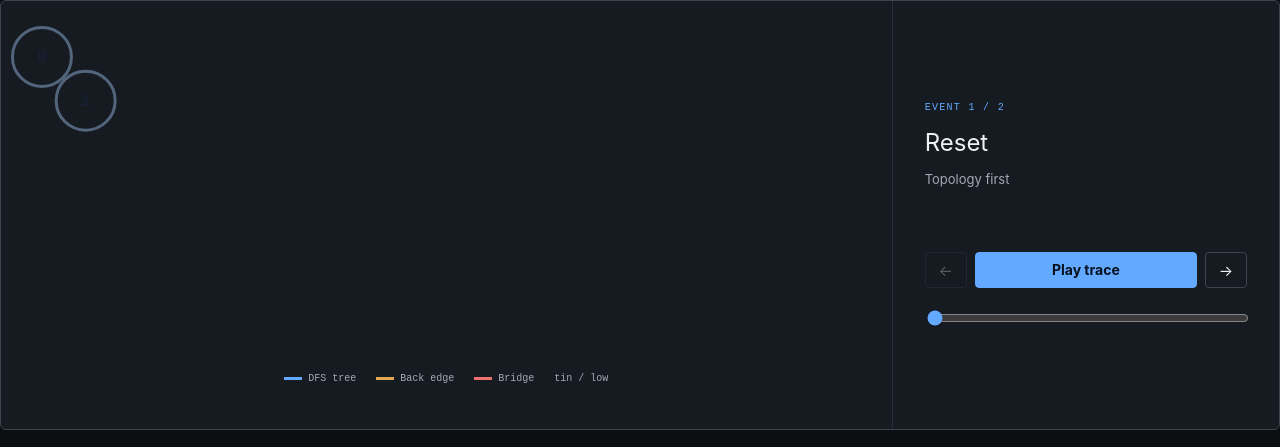
visualizer advances semantic events
The width and height of the screenshot is (1280, 447).
Expected: the text "Topology first" is shown, [925,171,1009,187]
Click the button named "Next event" at (1226, 270), box [1205,252,1247,288]
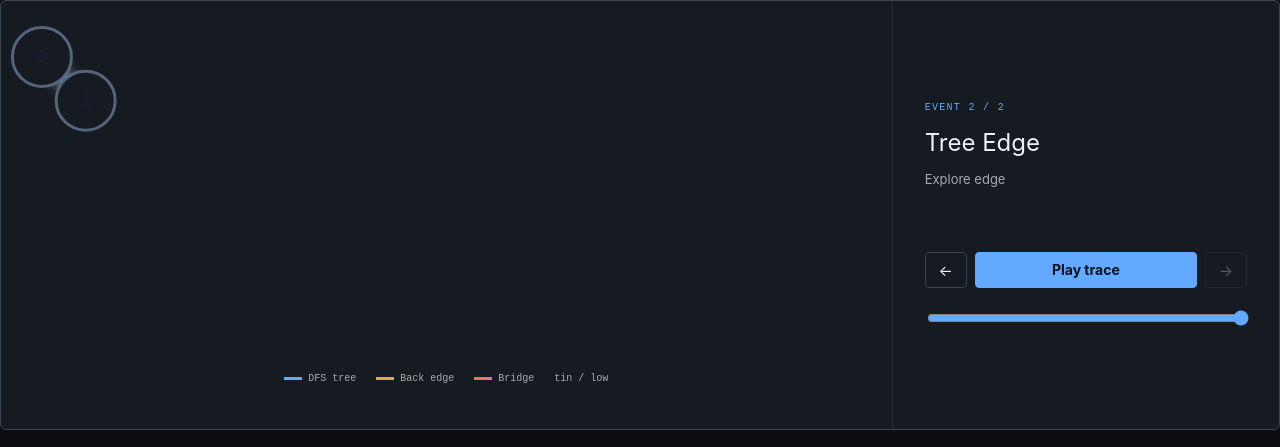
Expected: the picture named "low-link" is shown, [31,46,862,374]
Expected: the text "Explore edge" is shown, [925,171,1005,187]
